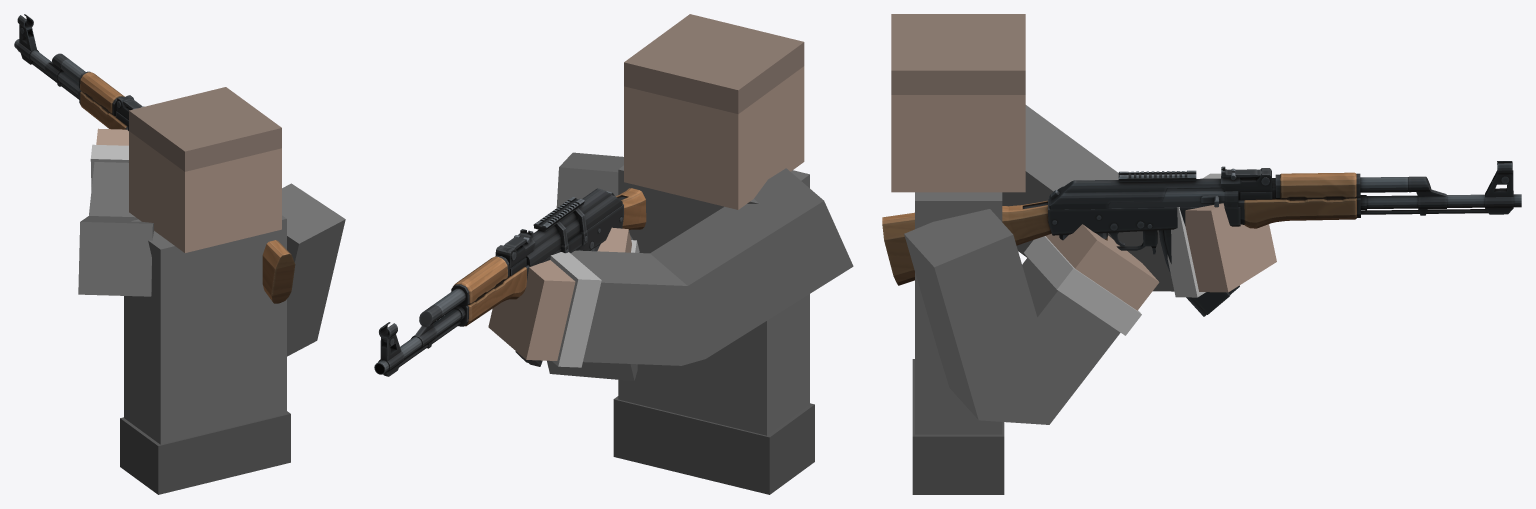
Rendered from Assault Rifle.gltf.
3 renders of one model, left to right at view 1: azimuth 30°, elevation 25°; view 2: azimuth 150°, elevation 25°; view 3: azimuth 270°, elevation 25°, orthographic. The views are drawn at different scales.
Size of the model in its own units: 5.21 by 6.8 by 9.52.
Materials: 2 (1 with a texture image).
